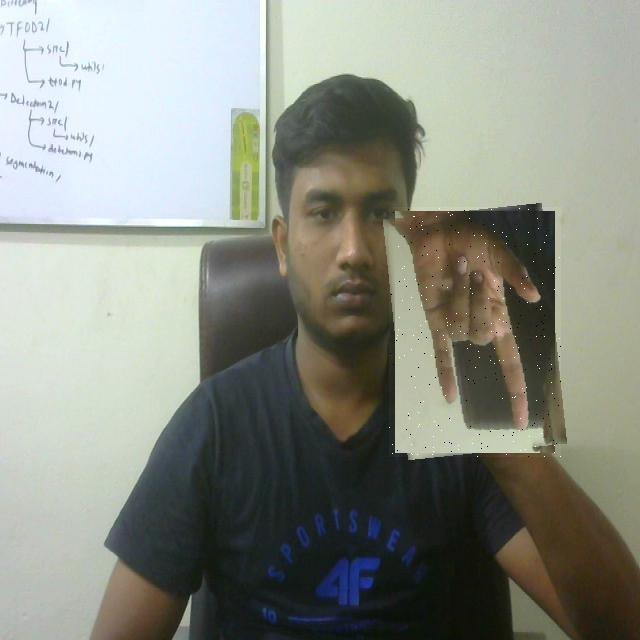IloveYou: (389, 207, 561, 457)
